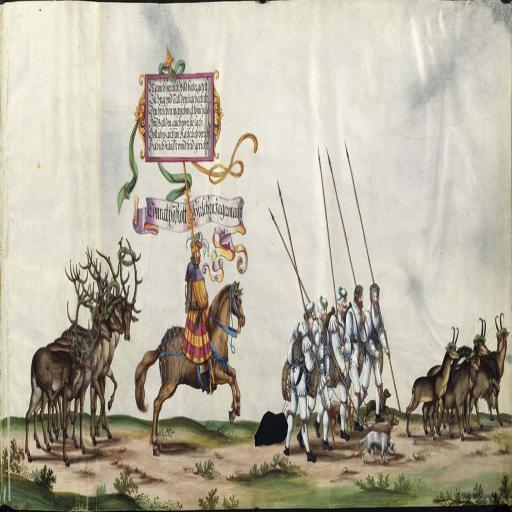horse: (133, 276, 247, 458)
